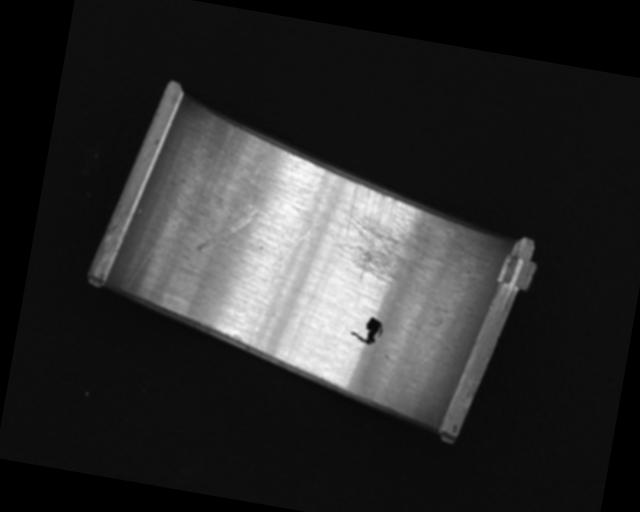blot: (348, 313, 385, 348)
nick: (245, 221, 314, 354), (122, 201, 185, 301), (196, 203, 257, 259), (244, 155, 270, 224)
scratch: (327, 183, 475, 297)
